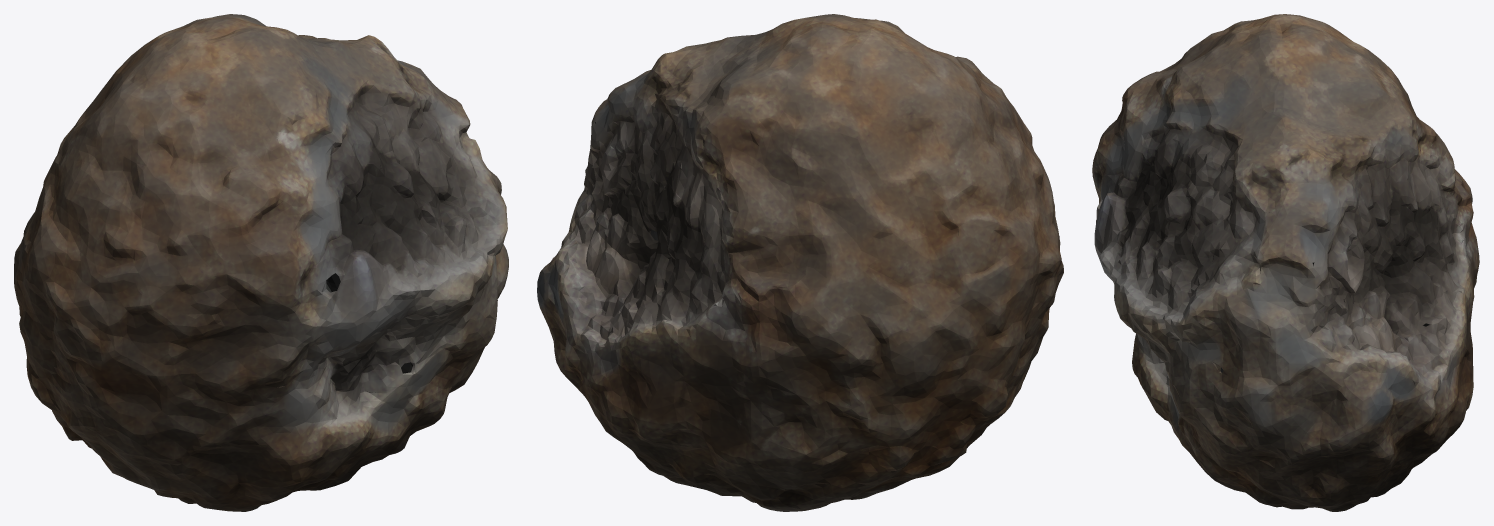
3 renders of one model, left to right at view 1: azimuth 30°, elevation 25°; view 2: azimuth 150°, elevation 25°; view 3: azimuth 270°, elevation 25°, orthographic. The views are drawn at different scales.
Parts seen in each view (by area): view 1: world; view 2: world; view 3: world.
Boxes of the visible parts, x1,y1,x2,y2 form: world: [14, 14, 508, 511]; world: [537, 14, 1063, 511]; world: [1092, 14, 1479, 511].
Bounding box in the file's own units: 0.9819 × 0.9692 × 0.7834.
Materials: 1 (1 with a texture image).
